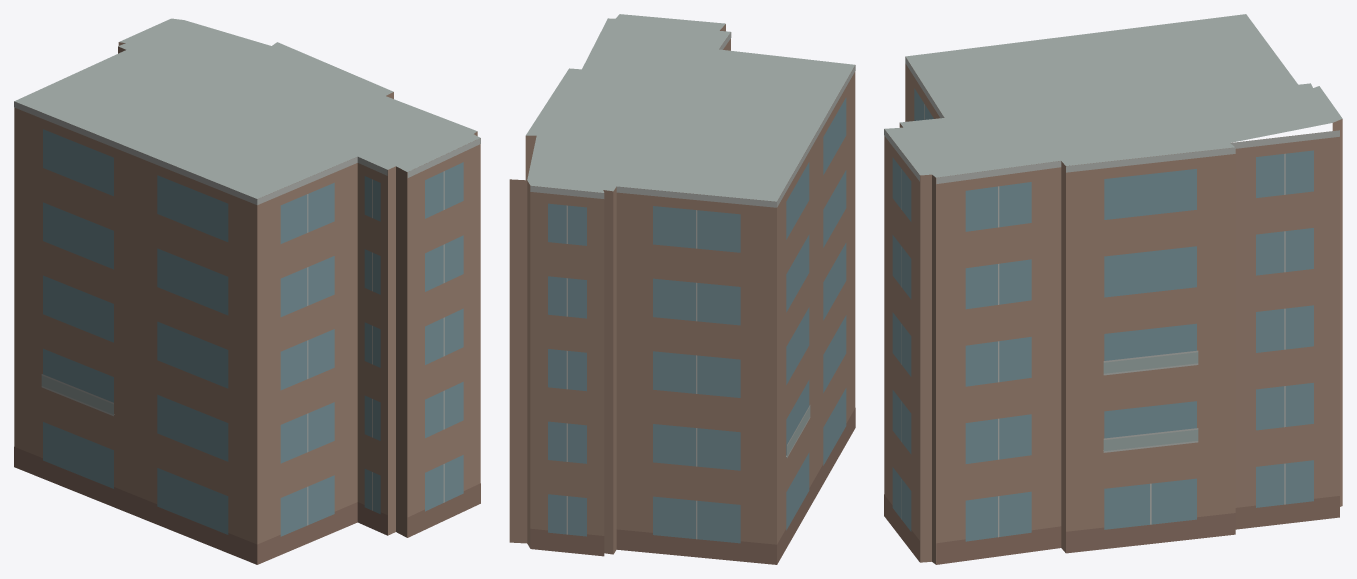
Rendered from survey-upis-32534676.glb.
3 renders of one model, left to right at view 1: azimuth 30°, elevation 25°; view 2: azimuth 150°, elevation 25°; view 3: azimuth 270°, elevation 25°, orthographic. The views are drawn at different scales.
Visible parts, largest first — view 1: survey-upis-32534676.tmp; view 2: survey-upis-32534676.tmp; view 3: survey-upis-32534676.tmp.
Boxes of the visible parts, <box> form: survey-upis-32534676.tmp: <box>14,18,480,564</box>; survey-upis-32534676.tmp: <box>509,14,855,564</box>; survey-upis-32534676.tmp: <box>884,14,1342,564</box>.
Size of the model in its own units: 13.15 by 14.5 by 15.57.
